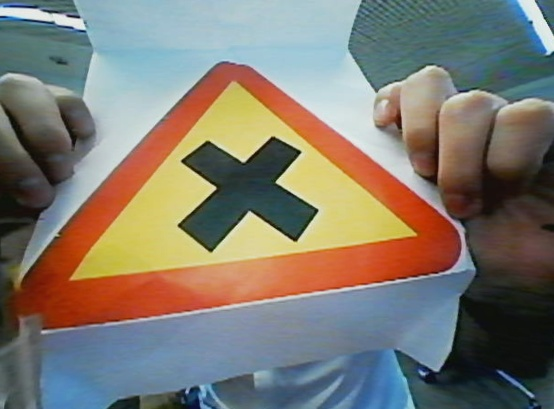junction: (12, 64, 463, 323)
